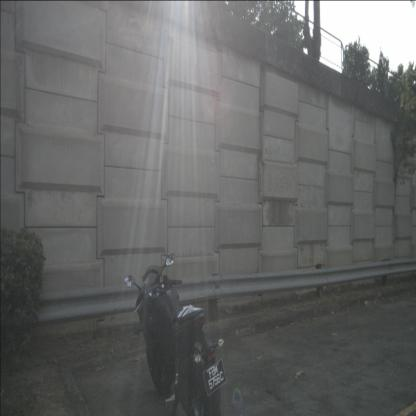vehicle-motorcycle: (124, 253, 227, 415)
